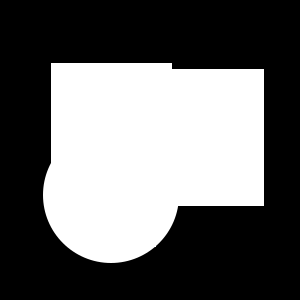circle: (127, 69, 264, 206), (51, 63, 172, 184), (98, 189, 156, 247)
rectangle: (43, 127, 179, 263), (192, 140, 246, 193)
